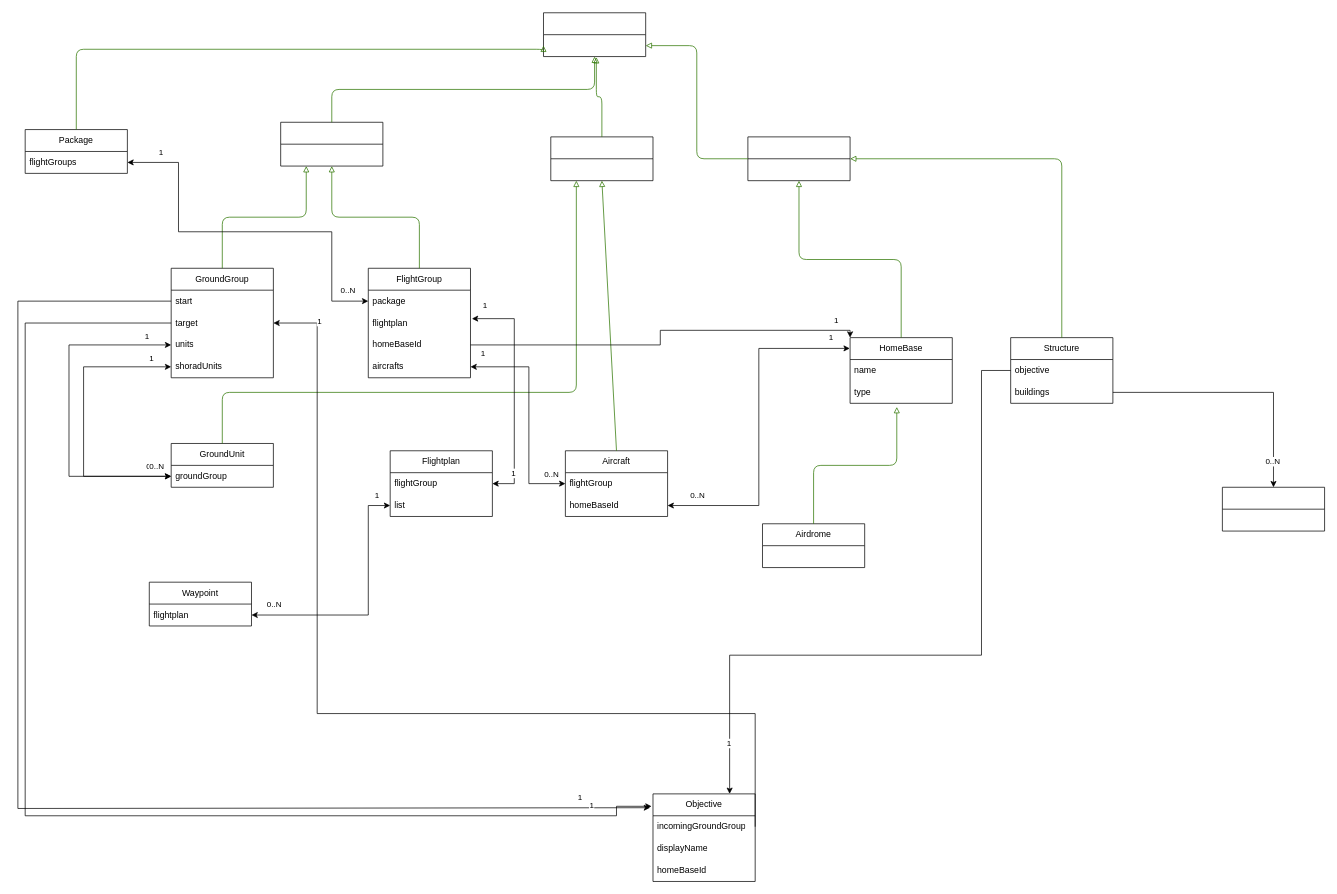
This 1337x894 diagram has some shape labels left out. The shapes that lost their labels are listed below. From the top down, each one's centre as x and y in pixels, then its label:
At [594,34]: "Entity".
At [331,144]: "Group".
At [601,158]: "Unit".
At [798,158]: "MapEntity".
At [1273,509]: "Building".
